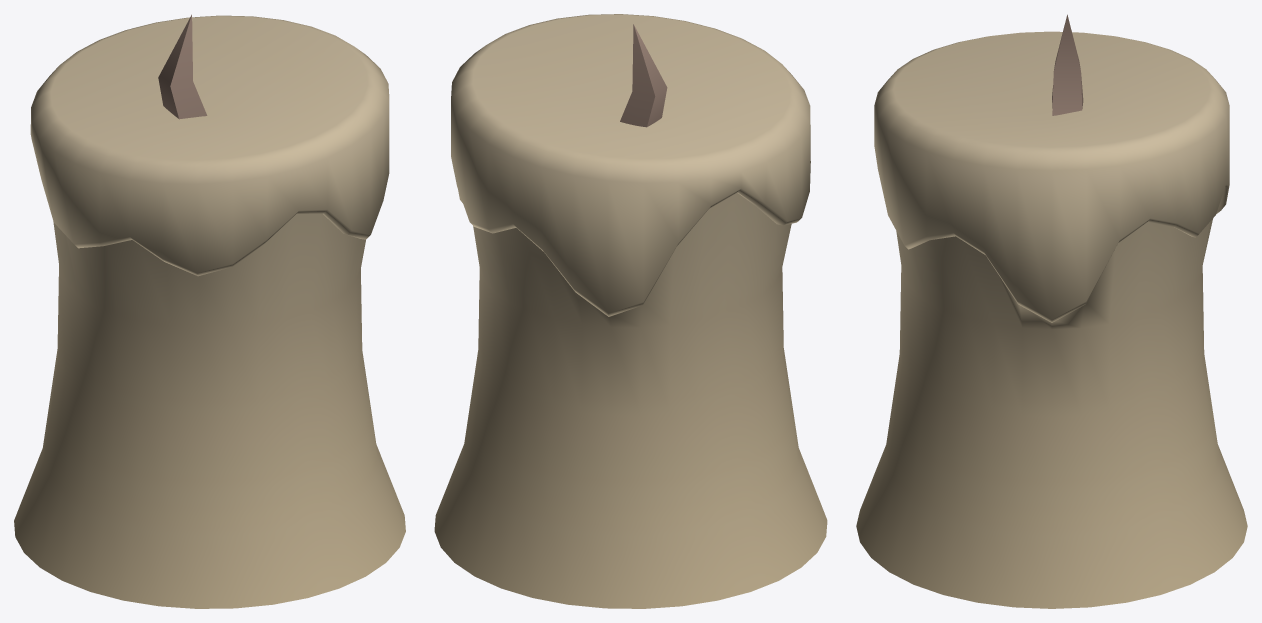
The model's file is Candle_01.glb.
3 views of the same model, side by side, from view 1: azimuth 30°, elevation 25°; view 2: azimuth 150°, elevation 25°; view 3: azimuth 270°, elevation 25° (orthographic).
Visible parts, largest first — view 1: Candle_01; view 2: Candle_01; view 3: Candle_01.
Boxes of the visible parts, <box> form: Candle_01: <box>14,14,405,608</box>; Candle_01: <box>434,14,827,608</box>; Candle_01: <box>856,14,1247,608</box>.
Bounding box in the file's own units: 0.1338 × 0.1913 × 0.1338.
Materials: 1 (1 with a texture image).
